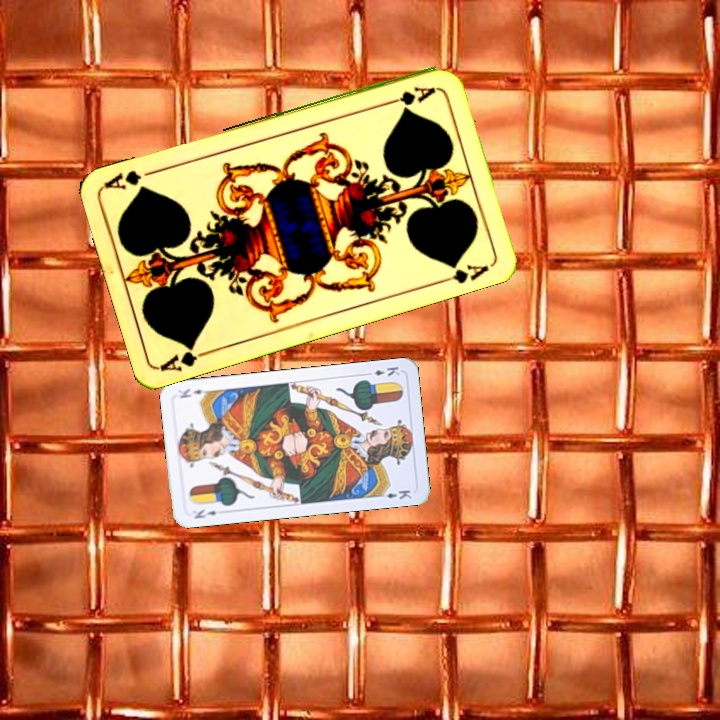EK: (361, 362, 402, 379), (190, 505, 219, 521)
GA: (157, 340, 215, 374), (380, 82, 439, 109)
